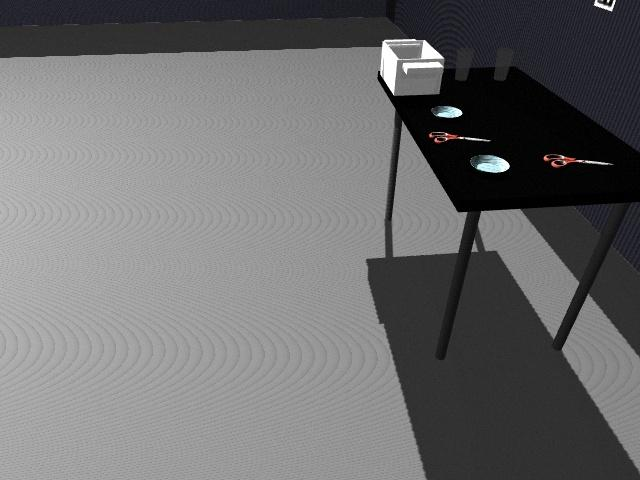cup: (493, 47, 515, 82), (455, 47, 474, 82)
plate: (469, 153, 514, 173), (430, 105, 463, 119)
scissors: (542, 152, 615, 168), (429, 131, 490, 144)
